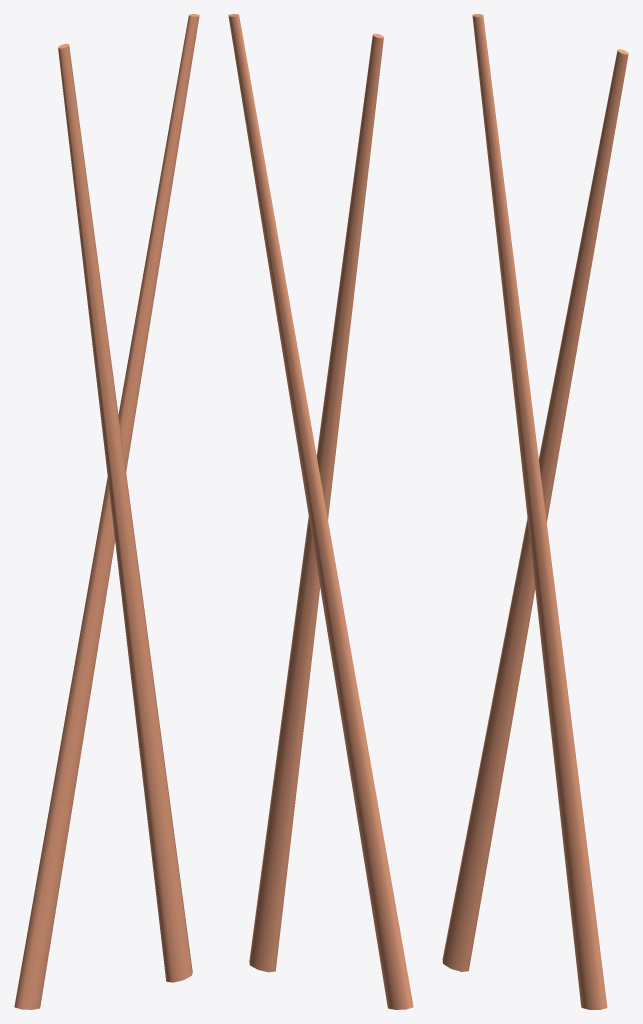
File: chopsticks_crossed_004.glb
3 views of the same model, side by side, from view 1: azimuth 30°, elevation 25°; view 2: azimuth 150°, elevation 25°; view 3: azimuth 330°, elevation 25° (orthographic).
Visible parts, largest first — view 1: chopsticks crossed.004; view 2: chopsticks crossed.004; view 3: chopsticks crossed.004.
Part boxes in pixels (x1,y1,x2,y2): chopsticks crossed.004: (14,14,199,1009); chopsticks crossed.004: (228,14,413,1009); chopsticks crossed.004: (442,14,628,1009).
Size of the model in its own units: 1.11 by 5.49 by 0.1678.
1 material, 1 textured.
